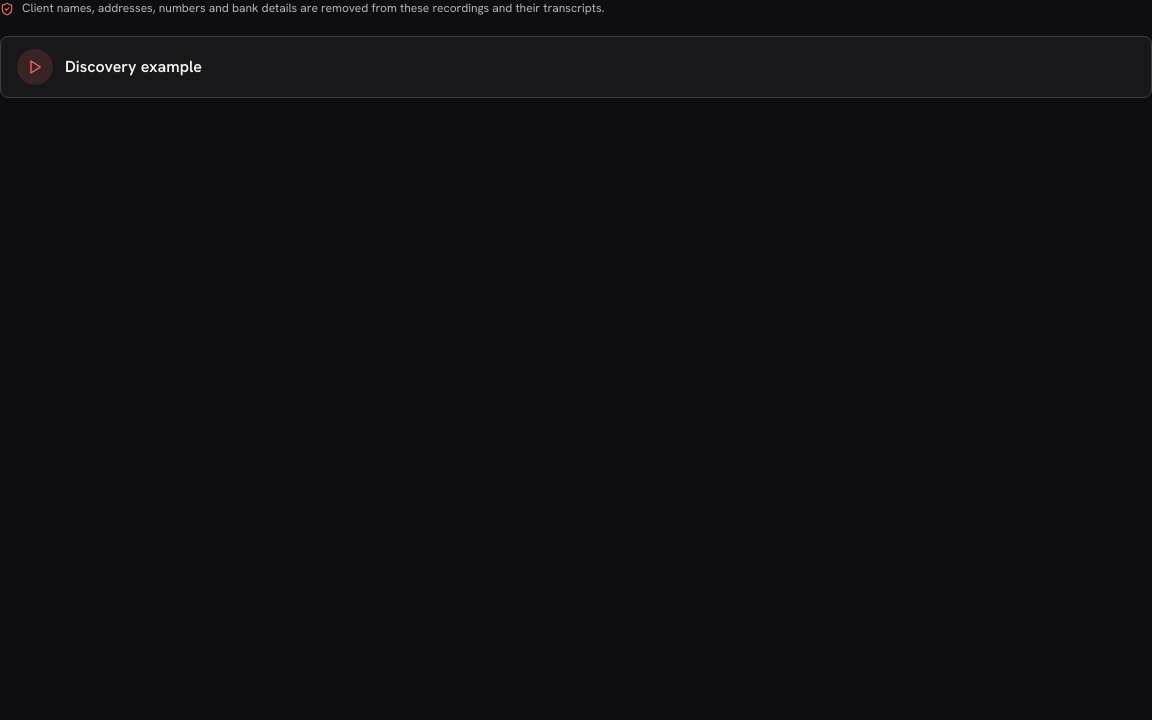
Test case: private recording playback › keeps a training signing denial retryable without attempting direct storage or exposing backend details
The image size is (1152, 720).
Later steps or results of the test are not shown.
Click the button "Discovery example" at (35, 67), box [1,37,1151,97]
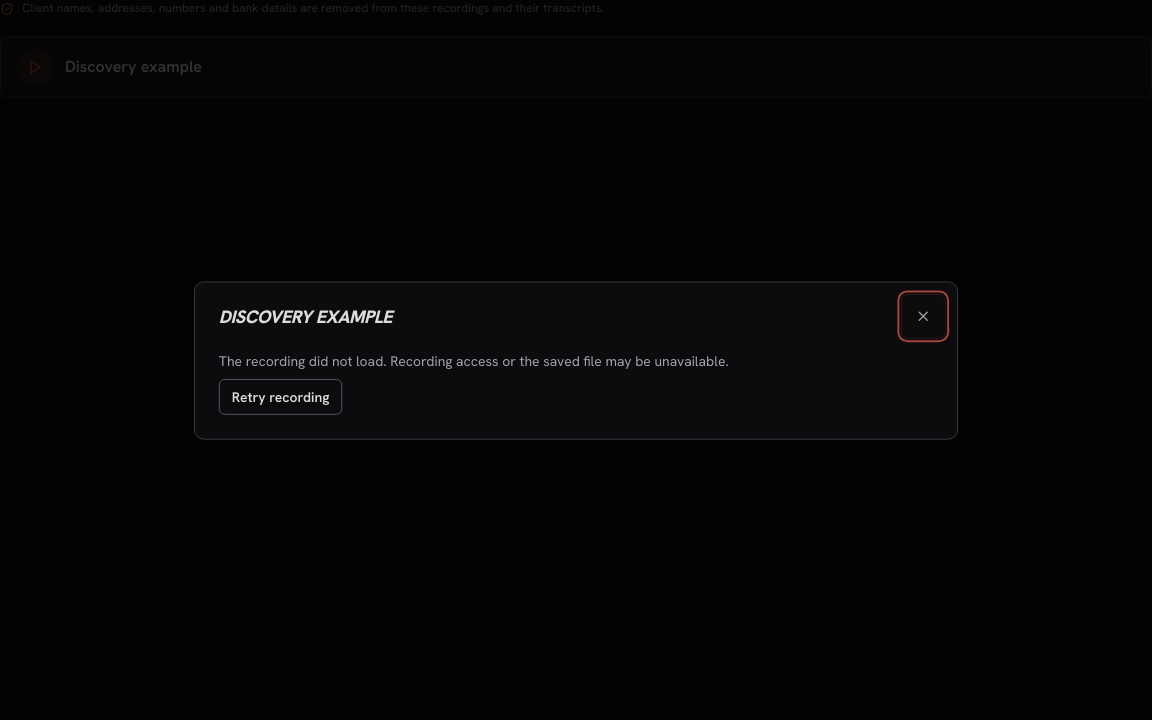
expect the message shows "The recording did not load": met, box [217,351,730,369]
